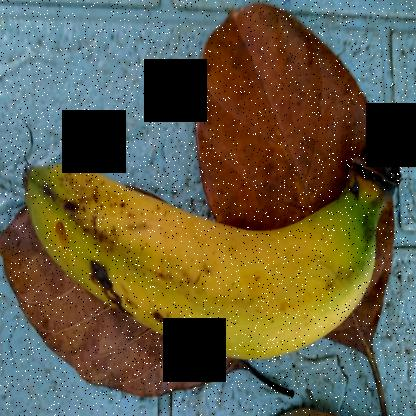ripe: (31, 146, 390, 378)
